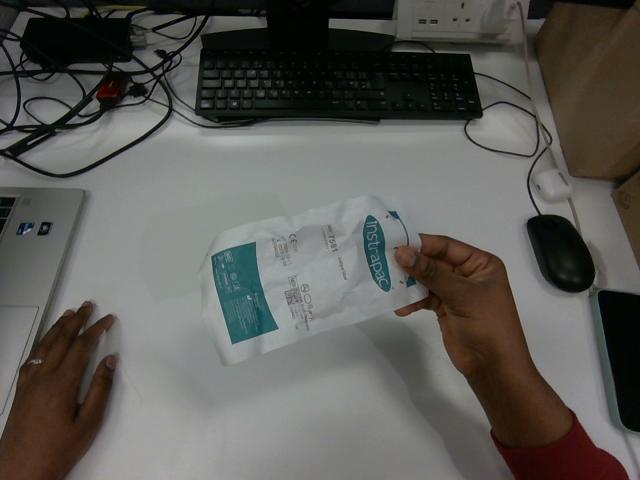gallipot: (200, 196, 427, 364)
